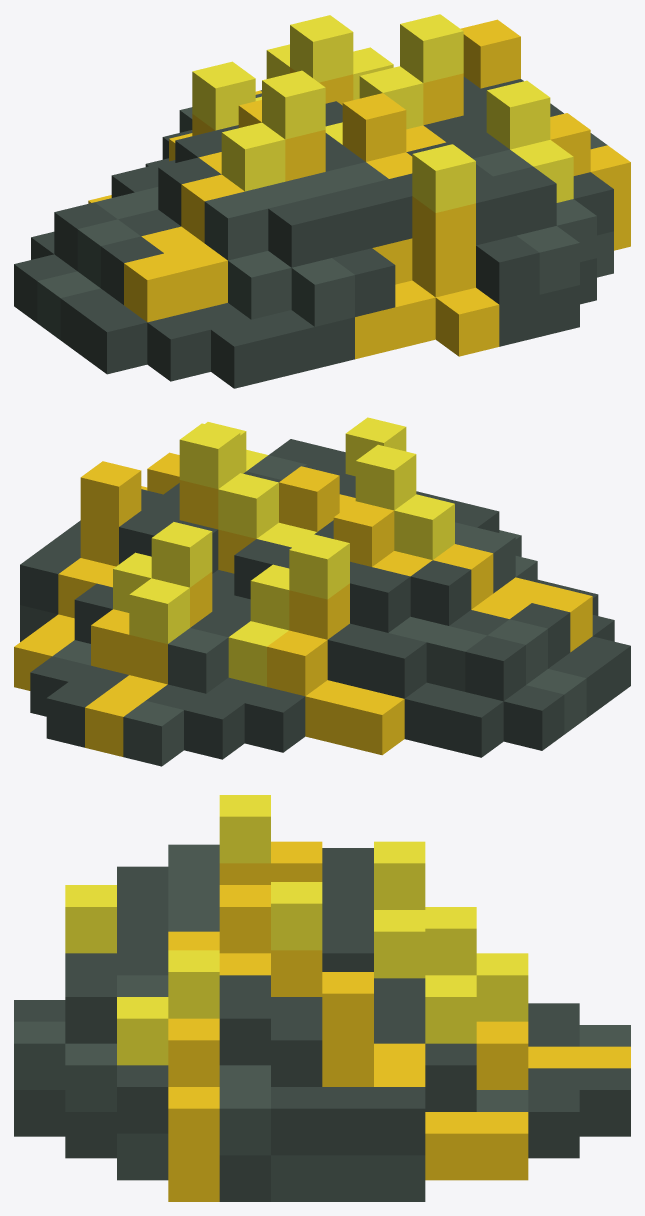
Rendered from GoldDeposit_M.obj.
3 views of the same model, one above another, from view 1: azimuth 30°, elevation 25°; view 2: azimuth 150°, elevation 25°; view 3: azimuth 270°, elevation 25° (orthographic). The views are drawn at different scales.
Visible parts, largest first — view 1: GoldDeposit_M; view 2: GoldDeposit_M; view 3: GoldDeposit_M.
Part boxes in pixels (box(x1,y1,x2,y2)): GoldDeposit_M: box(14, 14, 630, 388); GoldDeposit_M: box(14, 417, 630, 766); GoldDeposit_M: box(14, 795, 630, 1201).
Size of the model in its own units: 1.3 by 0.5 by 1.2.
Materials: 1 (1 with a texture image).
